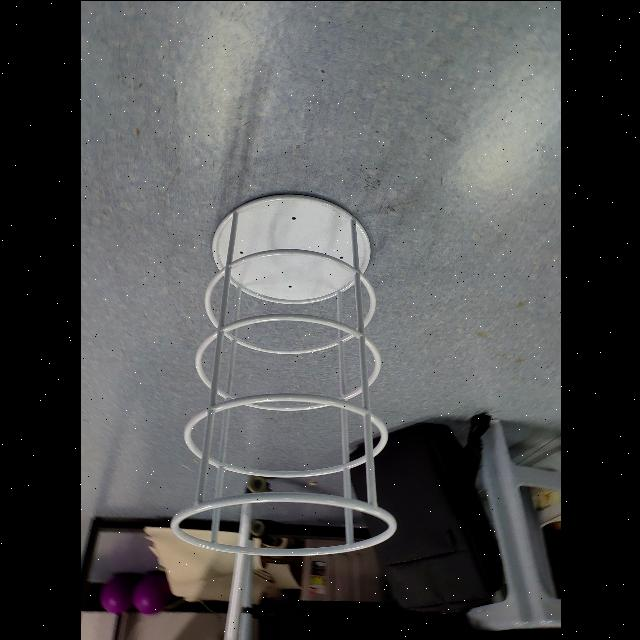S: (166, 186, 400, 560)
